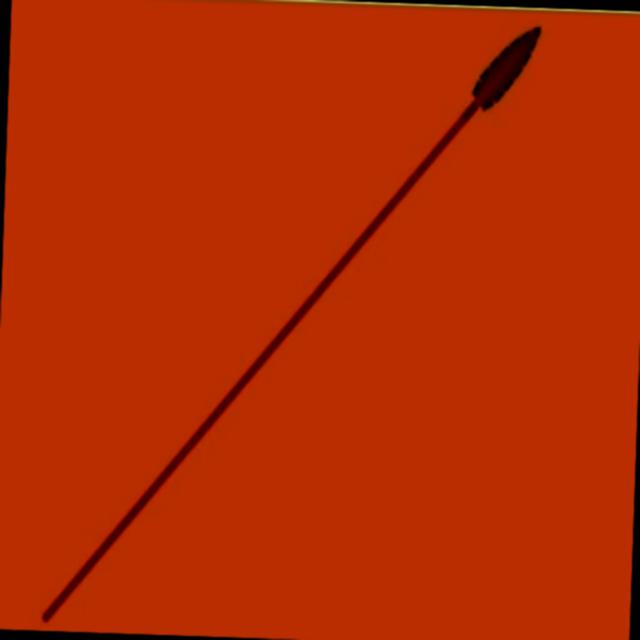spear: (28, 0, 569, 640)
